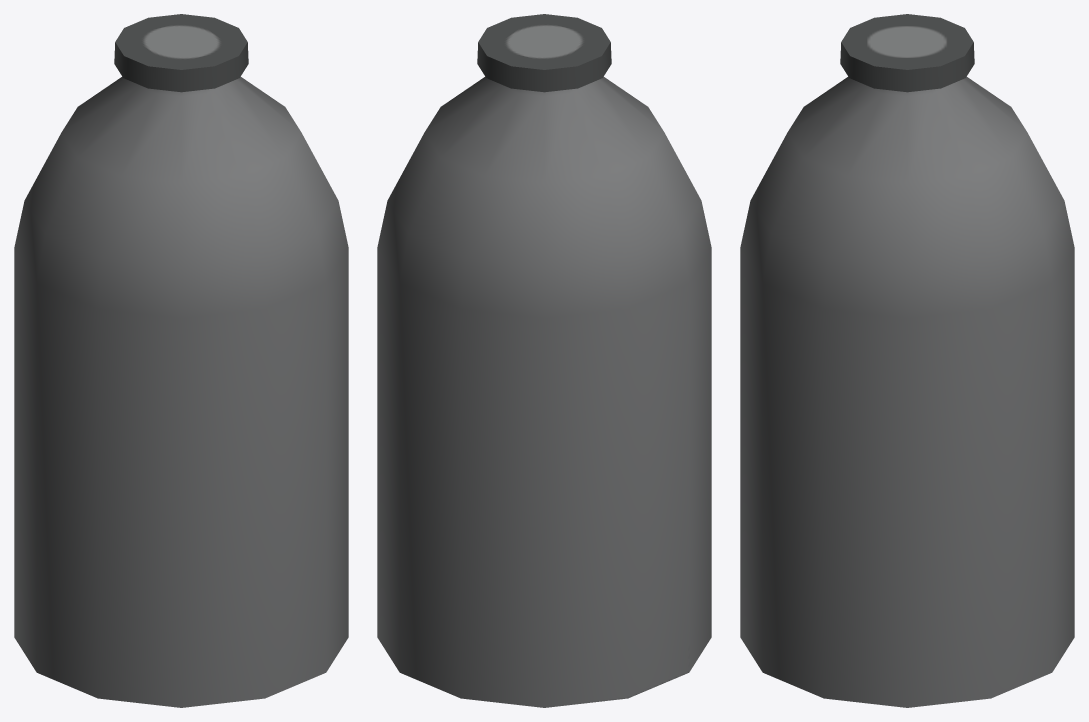
Rendered from vial5.FBX.
3 views of the same model, side by side, from view 1: azimuth 30°, elevation 25°; view 2: azimuth 150°, elevation 25°; view 3: azimuth 270°, elevation 25° (orthographic).
Visible parts, largest first — view 1: vial5; view 2: vial5; view 3: vial5.
Boxes of the visible parts, left/top/right/bottom form: vial5: left=14, top=14, right=348, bottom=707; vial5: left=377, top=14, right=711, bottom=707; vial5: left=740, top=14, right=1074, bottom=707.
Bounding box in the file's own units: 3.4 × 3.4 × 6.68.
